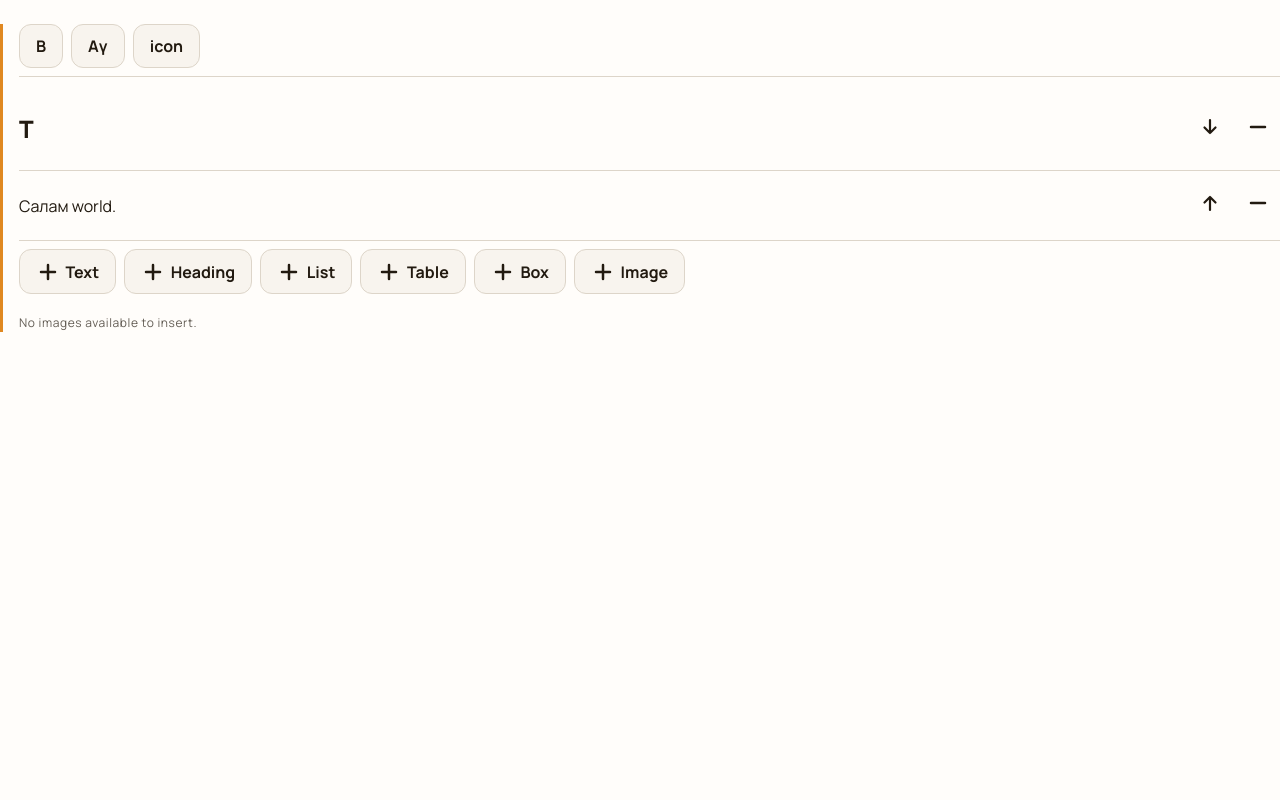
Test: NoteEditor - lexicon sheet (spec 0021-3) › Аү over a non-empty selection wraps and opens the sheet
Click the button with aria-label "Edit this text": (68, 206) [19,195,116,217]
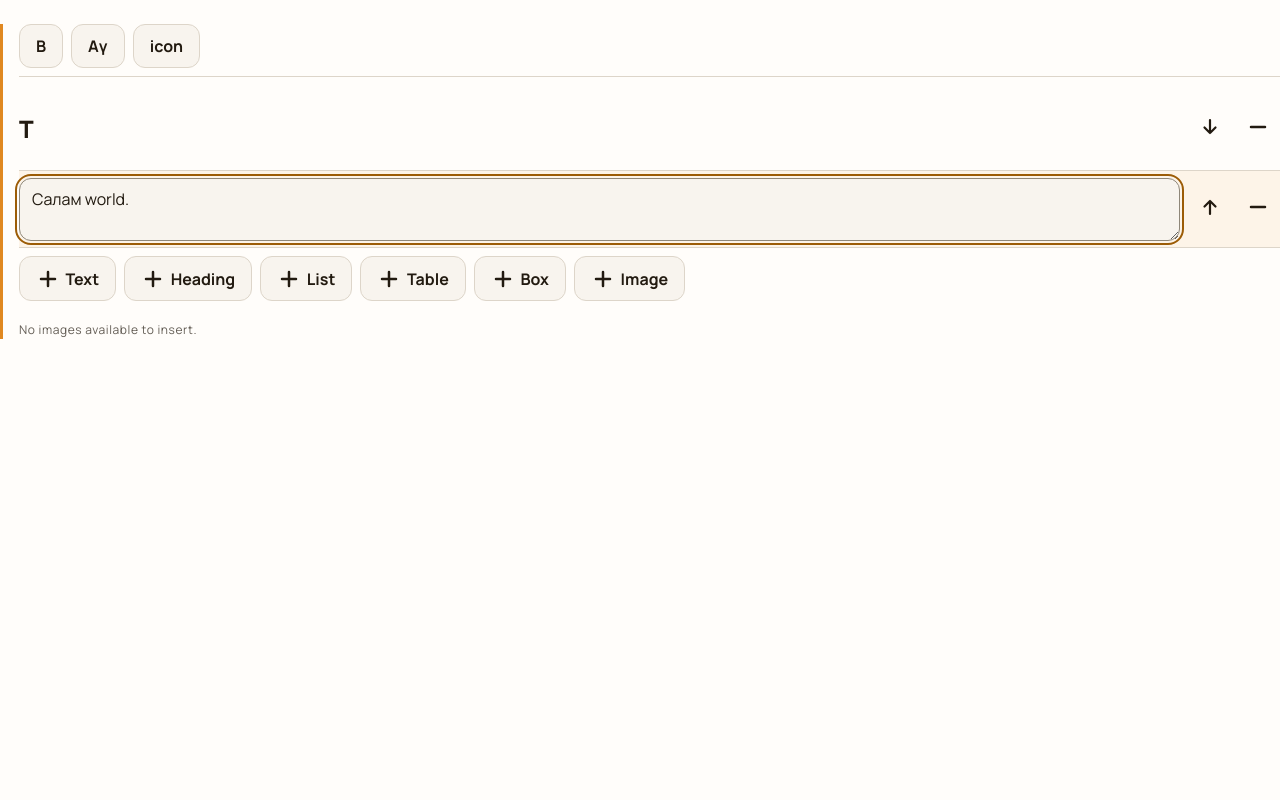
Click the button "Аү": (98, 46) [71,24,125,68]
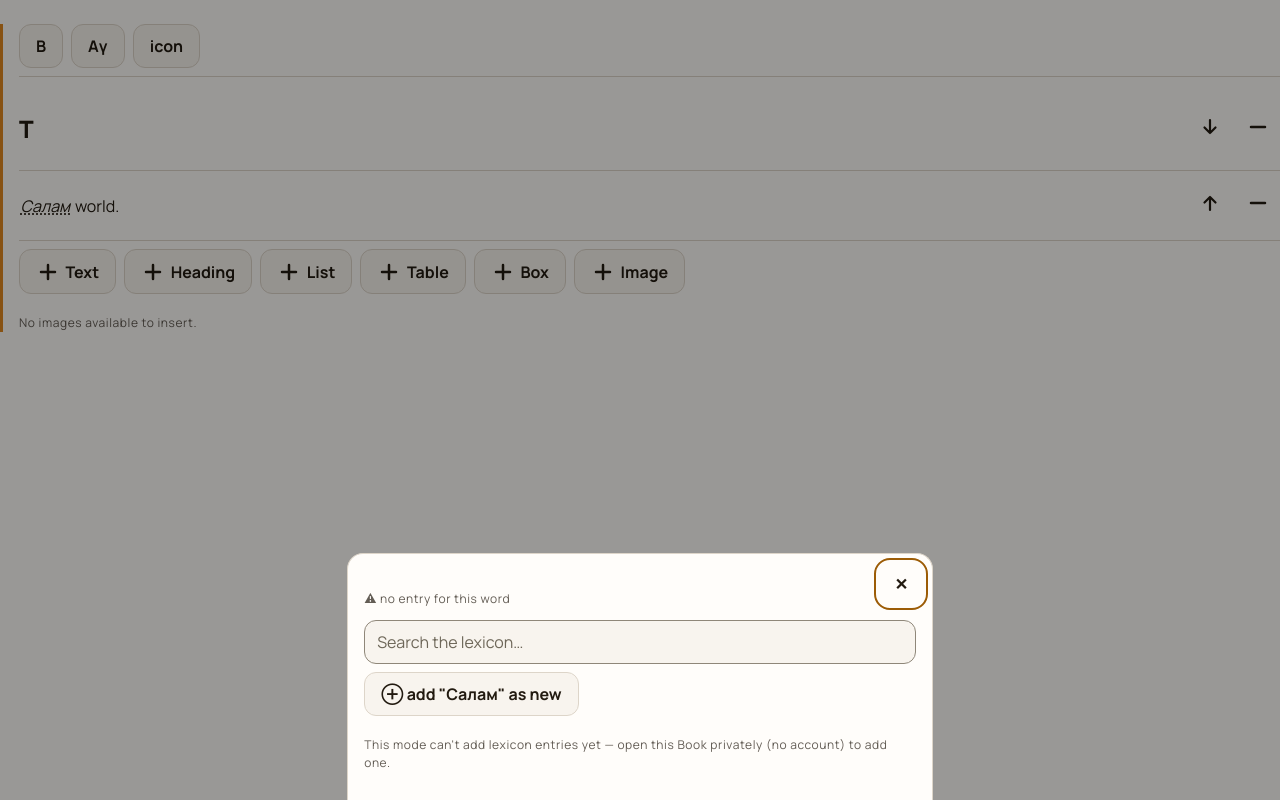
Check: the dialog is shown, box [347,553,933,799]
